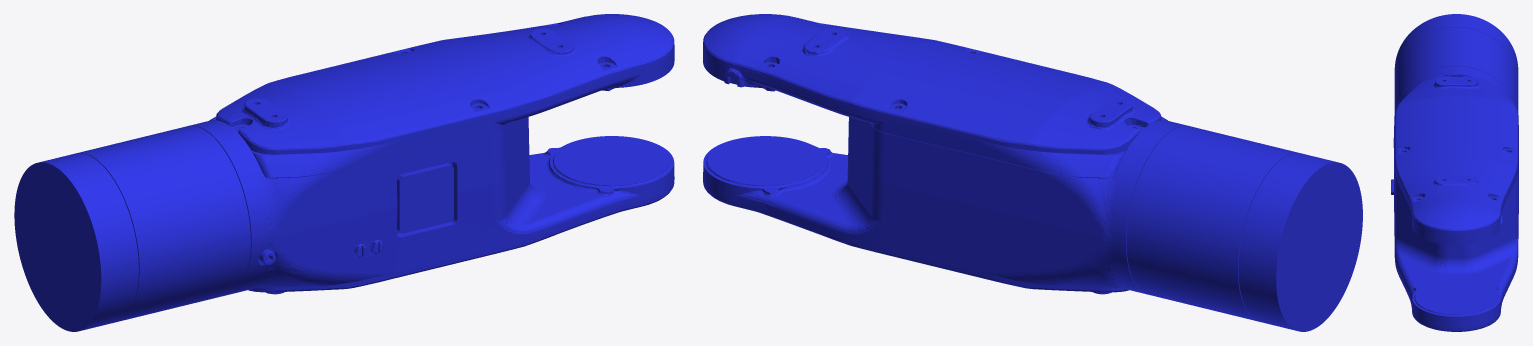
3 renders of one model, left to right at view 1: azimuth 30°, elevation 25°; view 2: azimuth 150°, elevation 25°; view 3: azimuth 270°, elevation 25°, orthographic. The views are drawn at different scales.
Parts seen in each view (by area): view 1: /Link4/Link4-mesh/0; view 2: /Link4/Link4-mesh/0; view 3: /Link4/Link4-mesh/0.
Boxes of the visible parts, box(x1,y1,x2,y2) form: /Link4/Link4-mesh/0: box(14, 14, 674, 331); /Link4/Link4-mesh/0: box(703, 14, 1362, 331); /Link4/Link4-mesh/0: box(1391, 14, 1518, 331).
Bounding box in the file's own units: 0.4045 × 0.11 × 0.1036.
